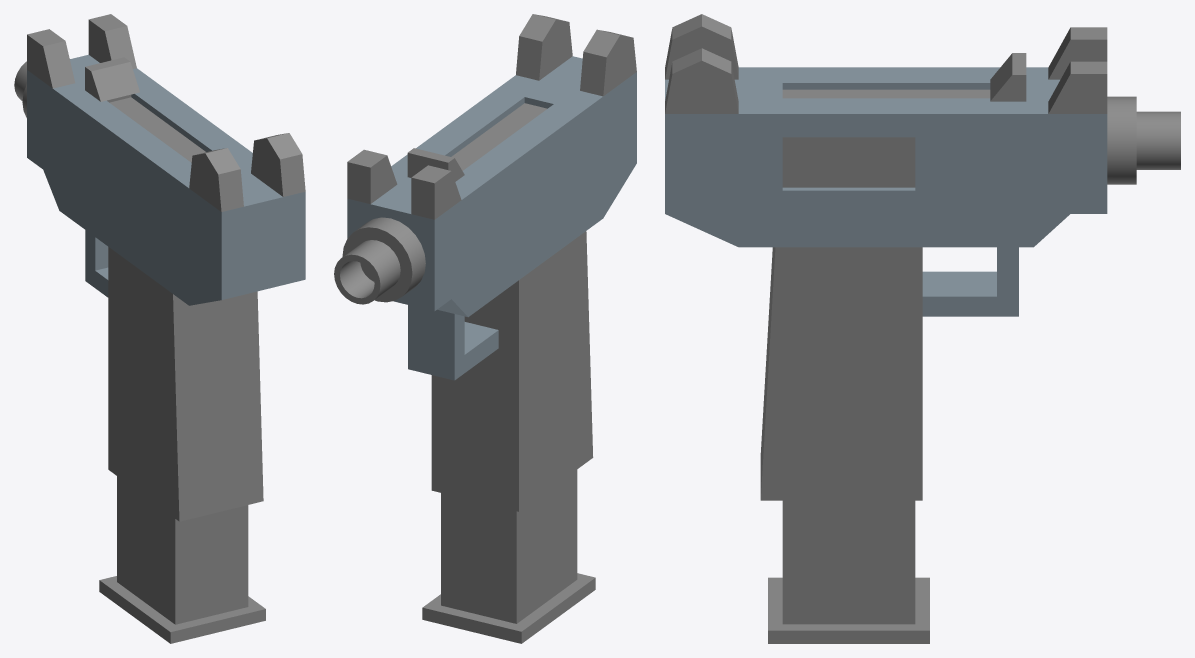
File: uzi.gltf
The picture shows the model from 3 angles, left to right: view 1: azimuth 30°, elevation 25°; view 2: azimuth 150°, elevation 25°; view 3: azimuth 270°, elevation 25°; orthographic projection. The views are drawn at different scales.
Parts seen in each view (by area): view 1: Group (×3); view 2: Group (×3); view 3: Group (×3).
Boxes of the visible parts, x1,y1,x2,y2 form: Group (×3): (14,14,305,643); Group (×3): (334,14,636,643); Group (×3): (665,14,1180,643).
Bounding box in the file's own units: 0.0651 × 0.333 × 0.2683.
